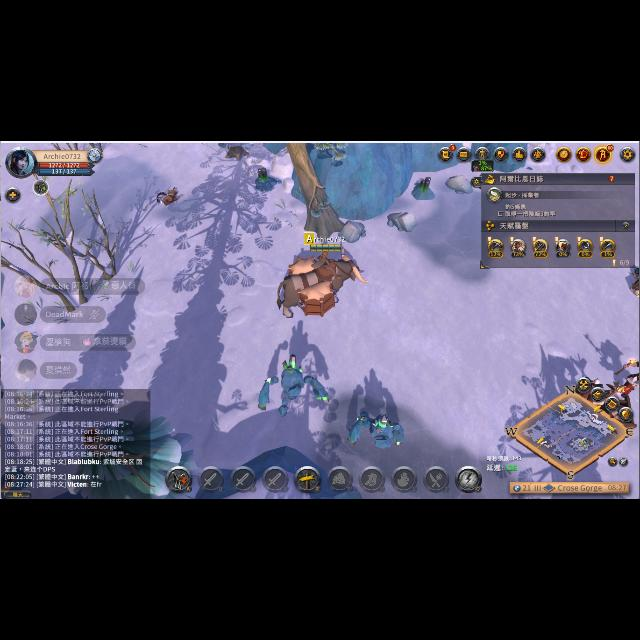mine_iii: (253, 164, 279, 190), (410, 178, 436, 200)
